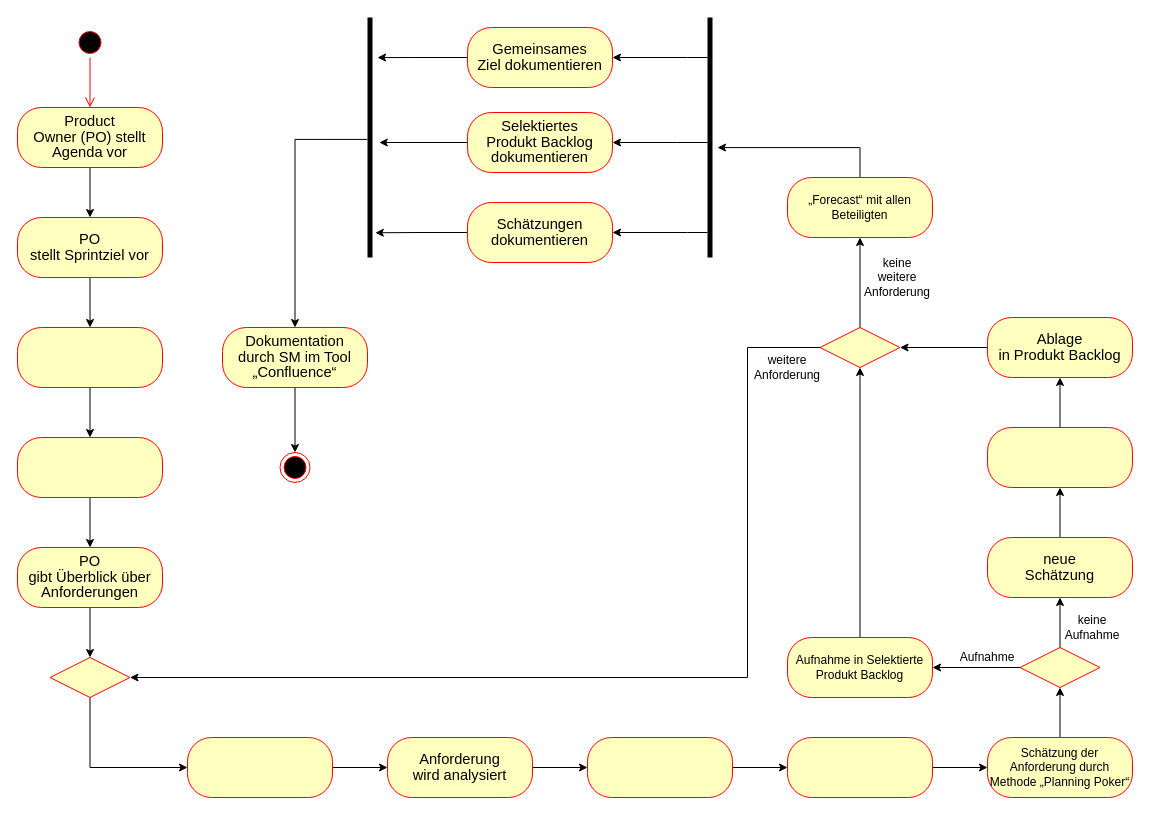
Image size: 1150x818. Some labels were removed from this diagram. Each missing label, with the centre of its shape:
"Anforderung wird durchgegangen" belongs at [259,767].
"Einflussfaktoren werden besprochen" belongs at [859,767].
"ggf. Anpassung des Ziels" belongs at [1059,457].
"Rahmenbedingungen werden besprochen" belongs at [659,767].
"Scrum Master (SM) stellt Ergebnisse des vorherigen Sprints vor" belongs at [89,357].
"SM ermittelt Kapazität für neuen Sprint" belongs at [89,467].
